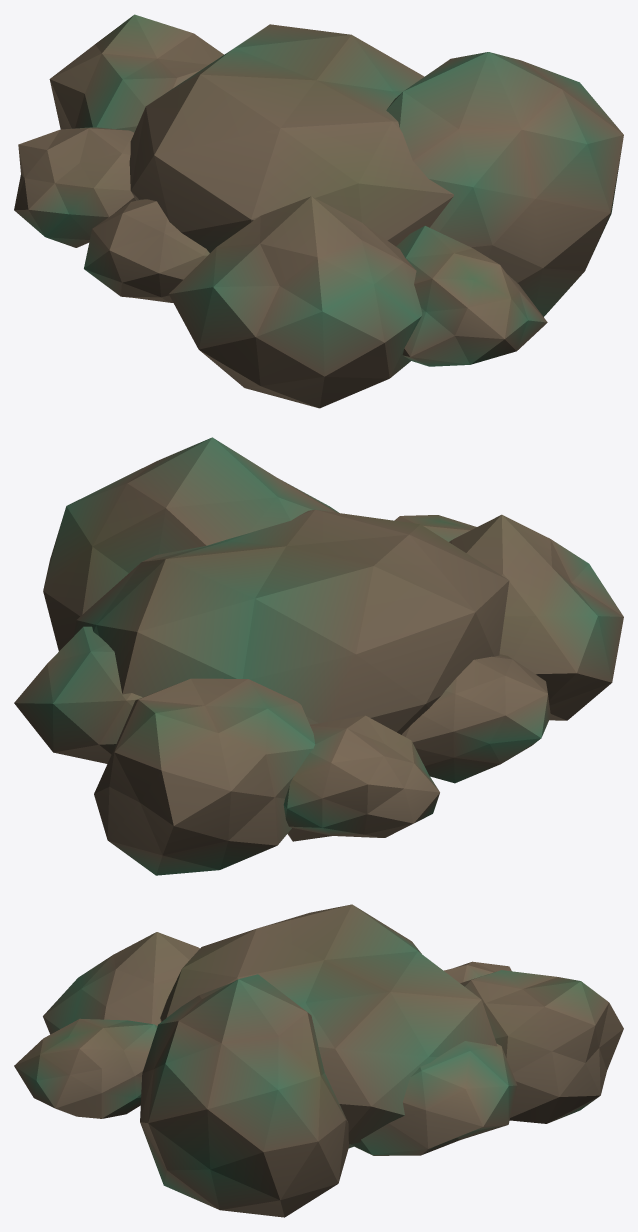
The model's file is deposit_copper.glb.
3 renders of one model, top to bottom at view 1: azimuth 30°, elevation 25°; view 2: azimuth 150°, elevation 25°; view 3: azimuth 270°, elevation 25°, orthographic. The views are drawn at different scales.
Visible parts, largest first — view 1: part_0; view 2: part_0; view 3: part_0.
Part boxes in pixels (x1,y1,x2,y2): part_0: (14, 14, 623, 408); part_0: (14, 437, 623, 875); part_0: (14, 904, 623, 1217).
Bounding box in the file's own units: 4.32 × 2.17 × 5.47.
